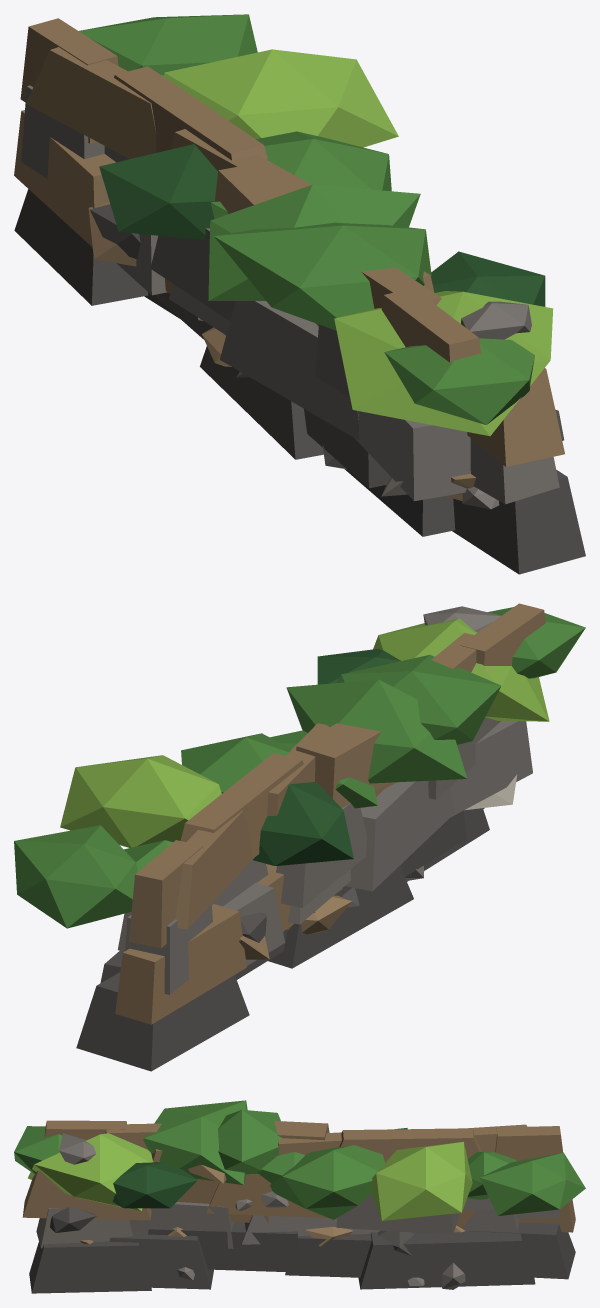
The model's file is cliff_low_a.glb.
3 views of the same model, one above another, from view 1: azimuth 30°, elevation 25°; view 2: azimuth 150°, elevation 25°; view 3: azimuth 270°, elevation 25° (orthographic). The views are drawn at different scales.
Parts seen in each view (by area): view 1: cliff_low_a; view 2: cliff_low_a; view 3: cliff_low_a.
Part boxes in pixels (x1,y1,x2,y2): cliff_low_a: (14, 14, 585, 574); cliff_low_a: (14, 603, 585, 1071); cliff_low_a: (14, 1100, 585, 1293).
Size of the model in its own units: 10.39 by 8.73 by 28.21.
